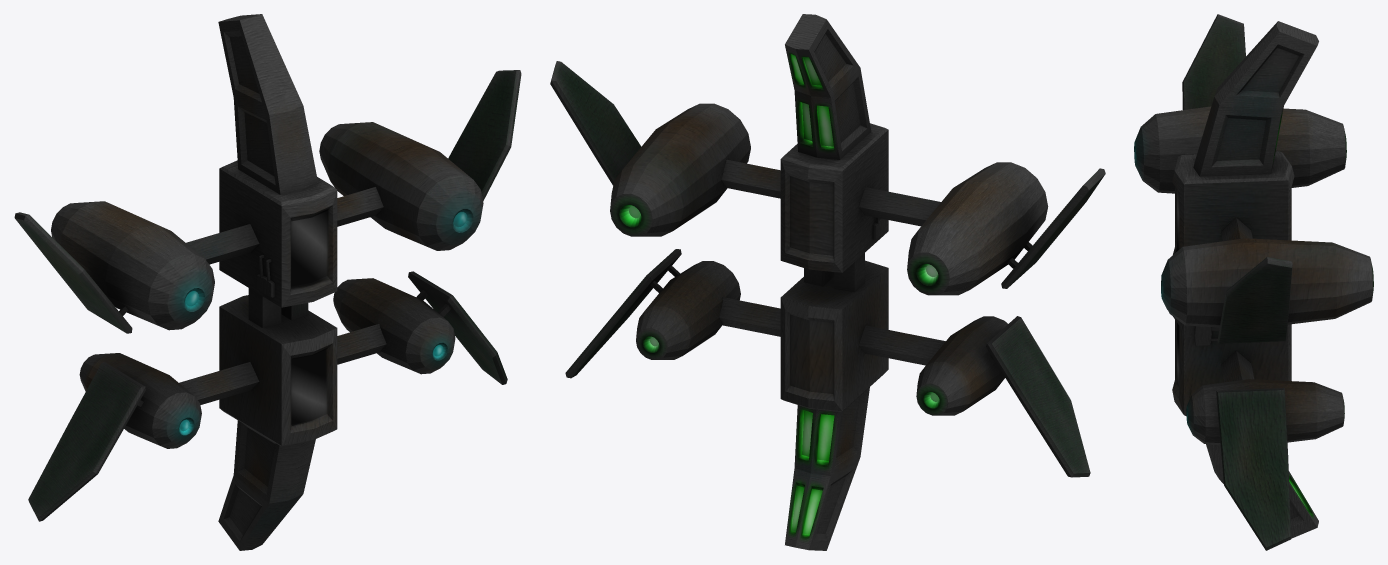
Rendered from Spaceship.obj.
3 views of the same model, side by side, from view 1: azimuth 30°, elevation 25°; view 2: azimuth 150°, elevation 25°; view 3: azimuth 270°, elevation 25° (orthographic). The views are drawn at different scales.
Visible parts, largest first — view 1: Cube.001; view 2: Cube.001; view 3: Cube.001.
Part boxes in pixels (<box>): Cube.001: <box>14,14,521,550</box>; Cube.001: <box>550,14,1105,550</box>; Cube.001: <box>1134,14,1373,550</box>.
Bounding box in the file's own units: 17.47 × 16.99 × 7.19.
Materials: 1 (1 with a texture image).
